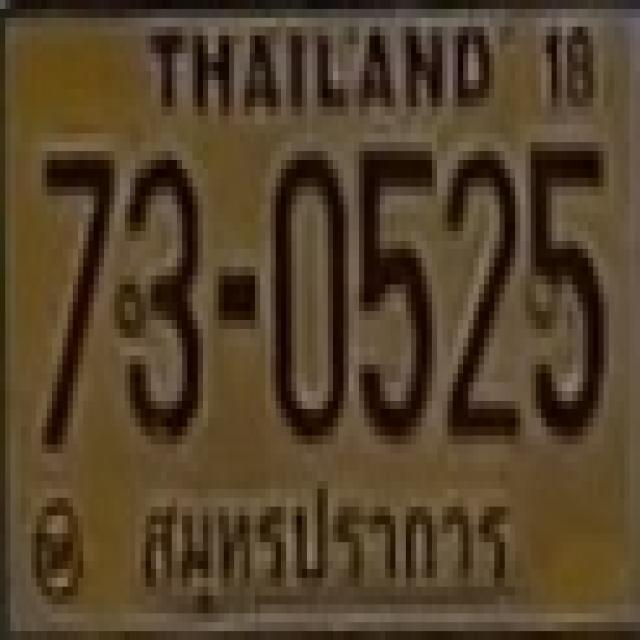0: (270, 142, 344, 436)
2: (442, 142, 515, 436)
3: (114, 151, 198, 436)
5: (526, 134, 598, 436), (356, 142, 429, 436)
7: (39, 147, 112, 440)
SPK: (136, 467, 521, 624)
